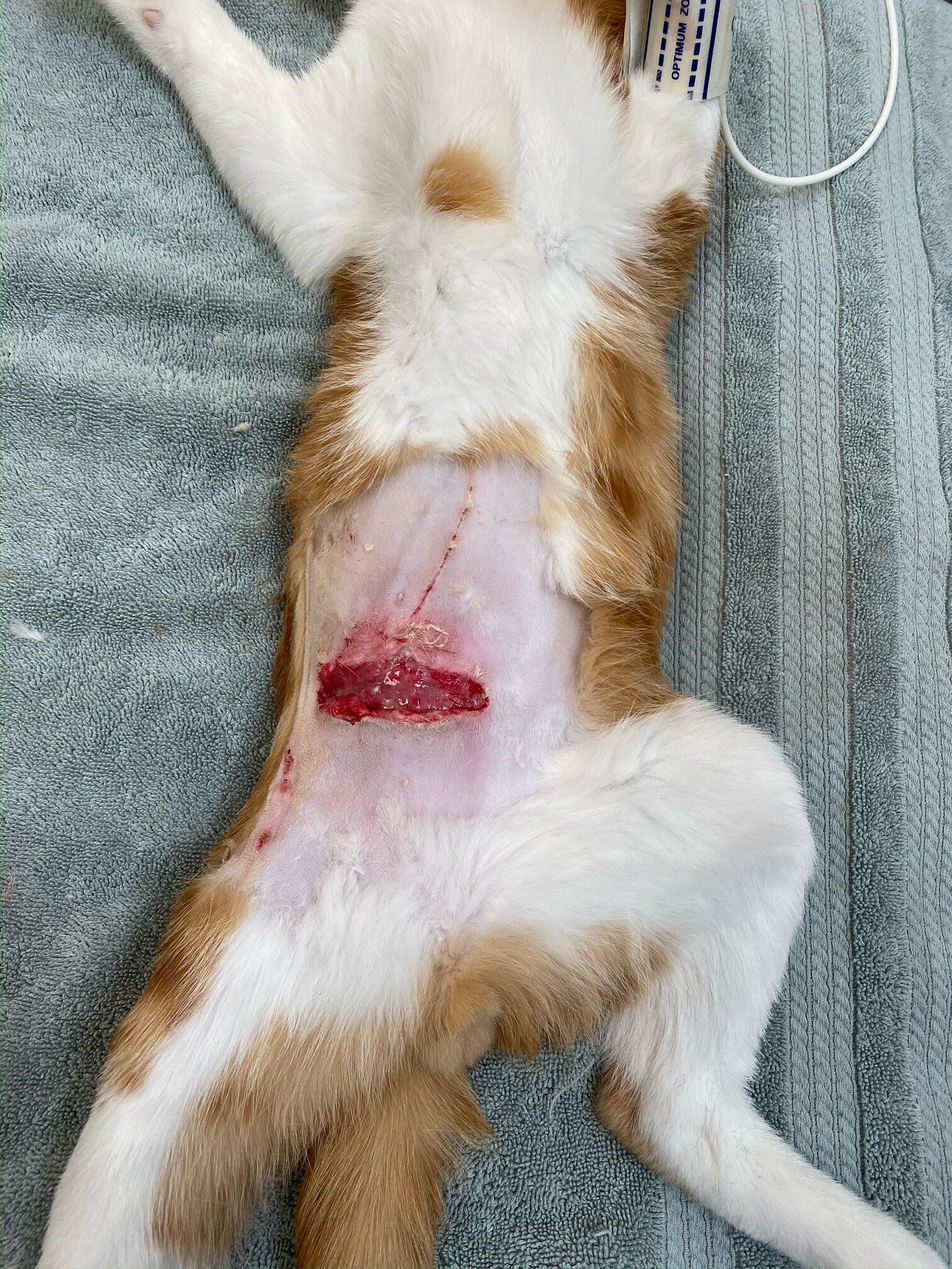cut: (277, 535, 586, 842)
